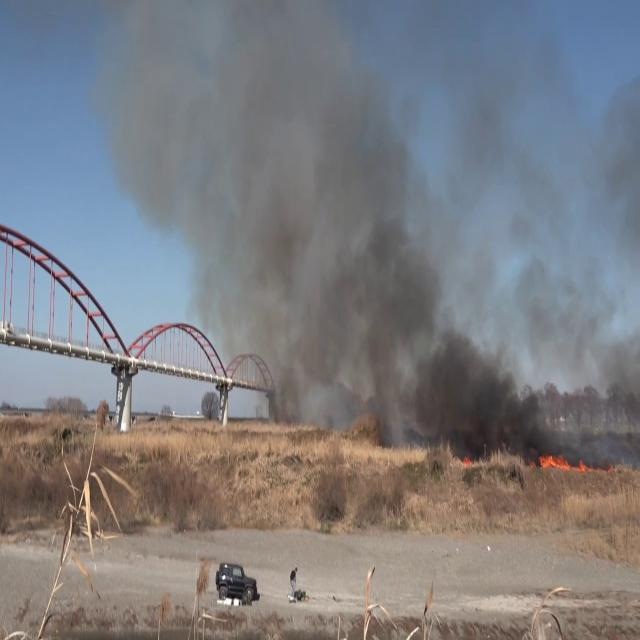Smoke: (98, 1, 434, 433), (376, 33, 640, 461)
